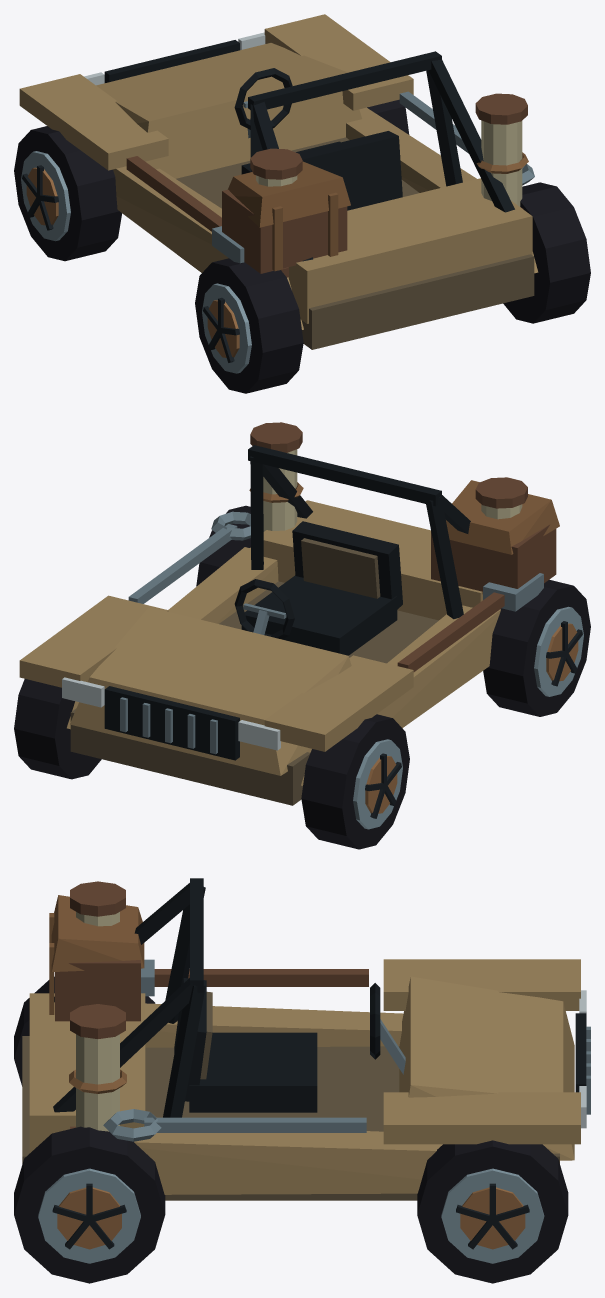
File: kart.glb
3 views of the same model, one above another, from view 1: azimuth 30°, elevation 25°; view 2: azimuth 150°, elevation 25°; view 3: azimuth 270°, elevation 25° (orthographic). The views are drawn at different scales.
Parts seen in each view (by area): view 1: identity-jeep-jeep-offroad-frame, wheel-rear-left, wheel-front-left, identity-jeep-motif-treasure, wheel-rear-right, identity-jeep-driver-cockpit, identity-jeep-motif-scrolls, identity-jeep-motif-tools, wheel-front-right; view 2: identity-jeep-jeep-offroad-frame, identity-jeep-driver-cockpit, wheel-front-left, wheel-rear-left, identity-jeep-motif-treasure, identity-jeep-motif-tools, wheel-front-right, identity-jeep-motif-scrolls, wheel-rear-right; view 3: identity-jeep-jeep-offroad-frame, wheel-rear-right, wheel-front-right, identity-jeep-driver-cockpit, identity-jeep-motif-treasure, identity-jeep-motif-tools, identity-jeep-motif-scrolls, wheel-rear-left.
Boxes of the visible parts, <box> form: identity-jeep-jeep-offroad-frame: <box>19,14,538,349</box>; wheel-rear-left: <box>195,258,303,393</box>; wheel-front-left: <box>14,126,121,261</box>; identity-jeep-motif-treasure: <box>222,161,350,273</box>; wheel-rear-right: <box>503,182,590,323</box>; identity-jeep-driver-cockpit: <box>234,68,402,210</box>; identity-jeep-motif-scrolls: <box>250,93,528,277</box>; identity-jeep-motif-tools: <box>126,91,534,263</box>; wheel-front-right: <box>367,99,409,134</box>; identity-jeep-jeep-offroad-frame: <box>19,445,500,805</box>; identity-jeep-driver-cockpit: <box>234,521,402,655</box>; wheel-front-left: <box>301,714,409,849</box>; wheel-rear-left: <box>483,579,590,716</box>; identity-jeep-motif-treasure: <box>431,480,559,593</box>; identity-jeep-motif-tools: <box>128,511,543,671</box>; wheel-front-right: <box>14,679,101,779</box>; identity-jeep-motif-scrolls: <box>249,422,527,531</box>; wheel-rear-right: <box>196,505,250,586</box>; identity-jeep-jeep-offroad-frame: <box>22,878,590,1200</box>; wheel-rear-right: <box>14,1126,165,1283</box>; wheel-front-right: <box>417,1140,568,1283</box>; identity-jeep-driver-cockpit: <box>174,978,405,1112</box>; identity-jeep-motif-treasure: <box>49,895,144,1021</box>; identity-jeep-motif-tools: <box>103,959,368,1141</box>; identity-jeep-motif-scrolls: <box>69,881,126,1131</box>; wheel-rear-left: <box>14,976,155,1086</box>.
Bounding box in the file's own units: 2.13 × 1.39 × 2.75.
